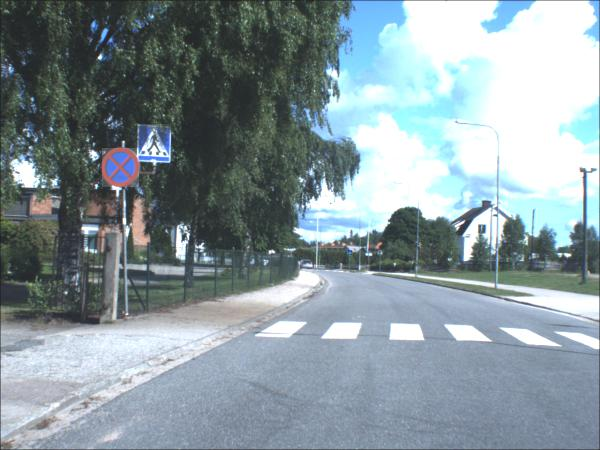NO_STOPPING_NO_STANDING: (102, 149, 140, 189)
PEDESTRIAN_CROSSING: (137, 125, 172, 164), (348, 251, 353, 257)
